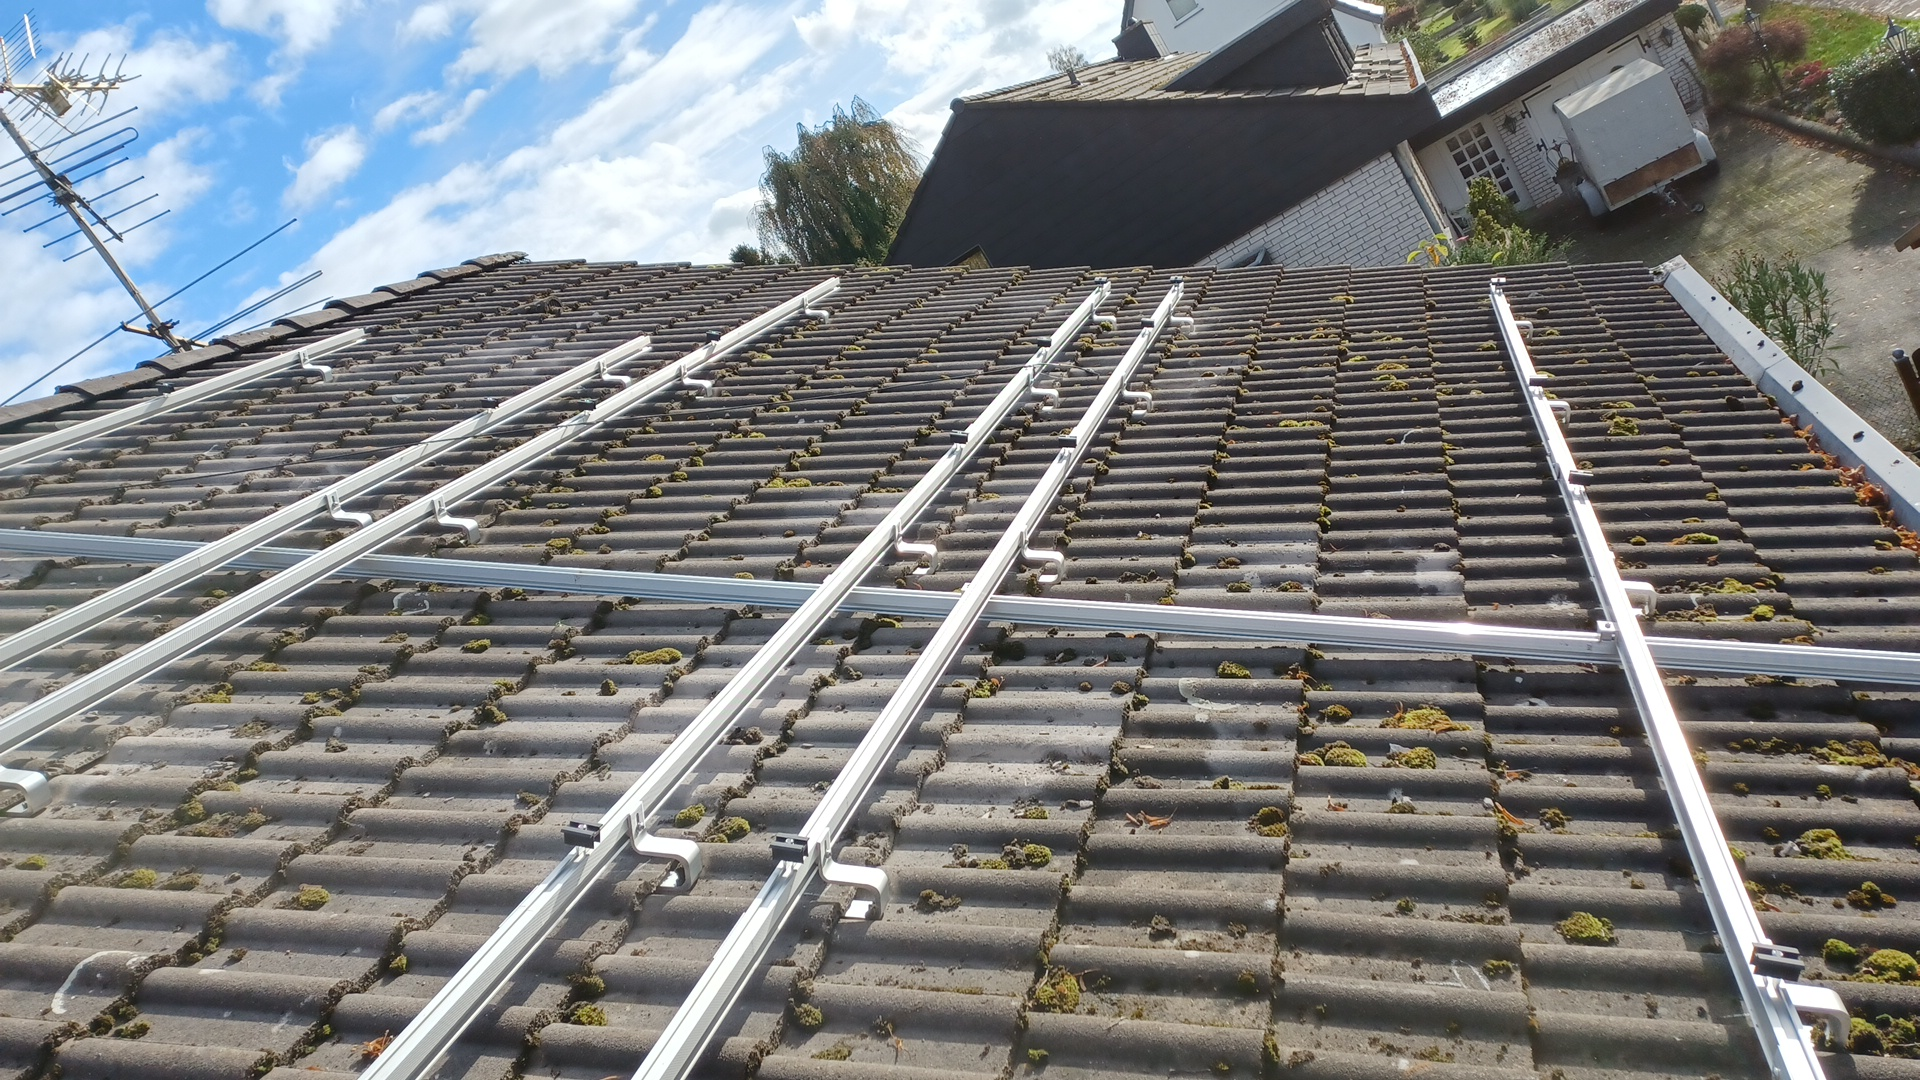hook: (1766, 938, 1850, 1054), (812, 825, 890, 920), (628, 800, 703, 891), (1, 737, 53, 818), (1609, 550, 1656, 618), (1021, 525, 1064, 584), (893, 518, 938, 575), (433, 493, 479, 546), (324, 488, 373, 529), (1120, 373, 1153, 415), (1027, 371, 1059, 410), (298, 348, 332, 384), (680, 363, 711, 401), (597, 357, 632, 388), (803, 295, 829, 324), (1091, 301, 1116, 331), (1168, 303, 1193, 334), (1547, 400, 1571, 425), (1514, 320, 1534, 339)
